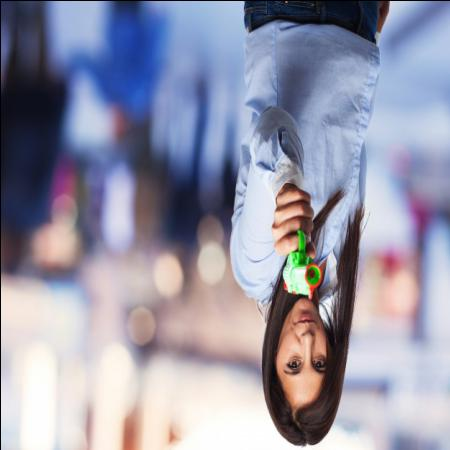Pistol: (280, 225, 322, 298)
